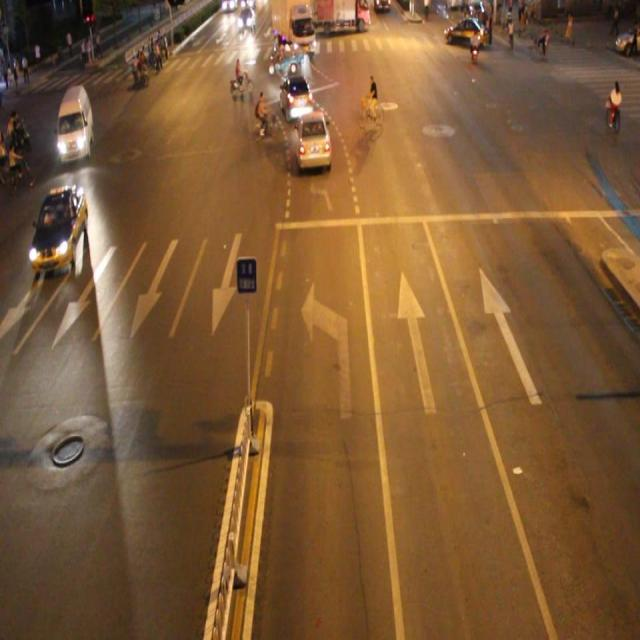car: (28, 186, 86, 271), (293, 108, 332, 171), (278, 74, 312, 122)
truck: (55, 83, 93, 161)
